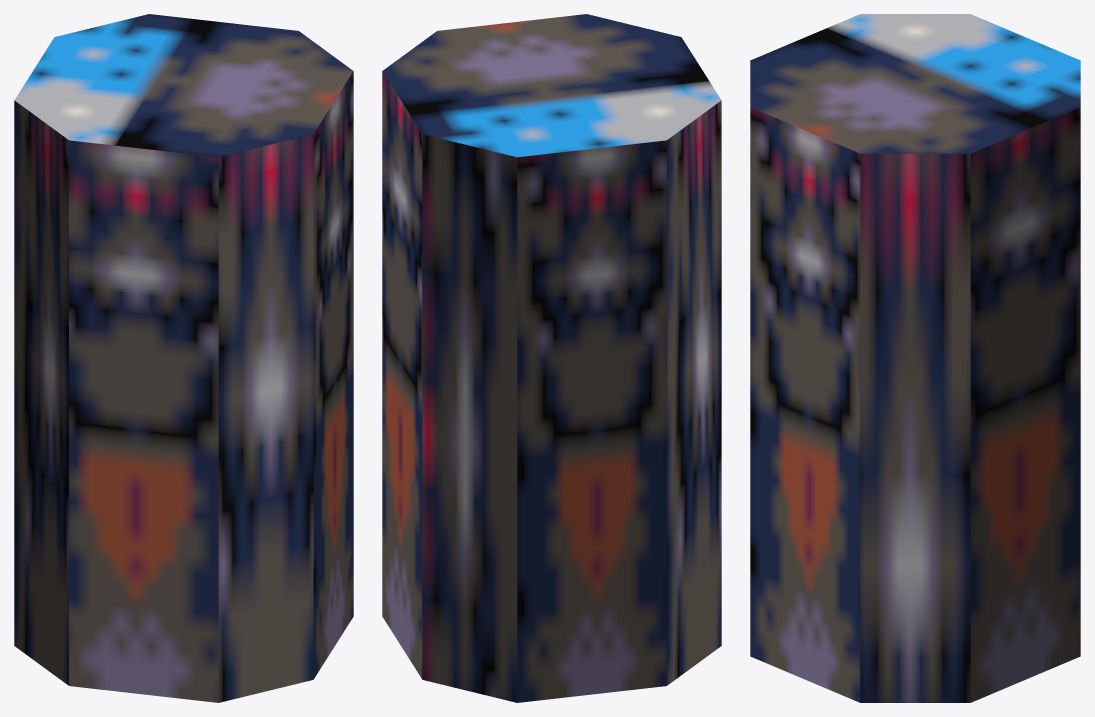
The model's file is barrel_01.obj.
3 renders of one model, left to right at view 1: azimuth 30°, elevation 25°; view 2: azimuth 150°, elevation 25°; view 3: azimuth 270°, elevation 25°, orthographic.
Parts seen in each view (by area): view 1: barrel_01; view 2: barrel_01; view 3: barrel_01.
Part boxes in pixels (x1=…): barrel_01: x1=14, y1=14, x2=353, y2=702; barrel_01: x1=382, y1=14, x2=721, y2=702; barrel_01: x1=750, y1=14, x2=1080, y2=702.
Bounding box in the file's own units: 1.5 × 2.75 × 1.5.
1 material, 1 textured.
